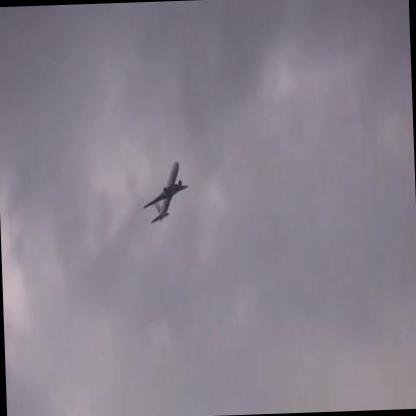plane: (142, 162, 190, 224)
